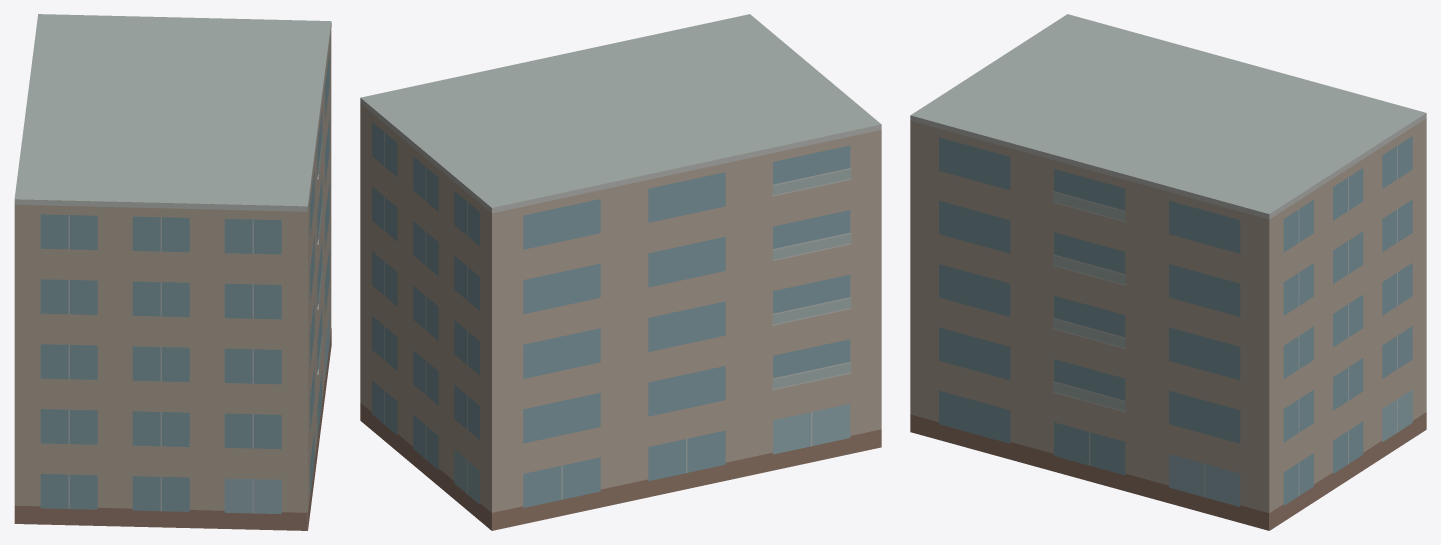
The model's file is survey-upis-32679107.glb.
3 views of the same model, side by side, from view 1: azimuth 30°, elevation 25°; view 2: azimuth 150°, elevation 25°; view 3: azimuth 270°, elevation 25° (orthographic). The views are drawn at different scales.
Parts seen in each view (by area): view 1: survey-upis-32679107.tmp; view 2: survey-upis-32679107.tmp; view 3: survey-upis-32679107.tmp.
Part boxes in pixels (x1=…): survey-upis-32679107.tmp: x1=14, y1=14, x2=331, y2=530; survey-upis-32679107.tmp: x1=360, y1=14, x2=881, y2=530; survey-upis-32679107.tmp: x1=910, y1=14, x2=1426, y2=530.
Size of the model in its own units: 19.73 by 14.55 by 21.51.
